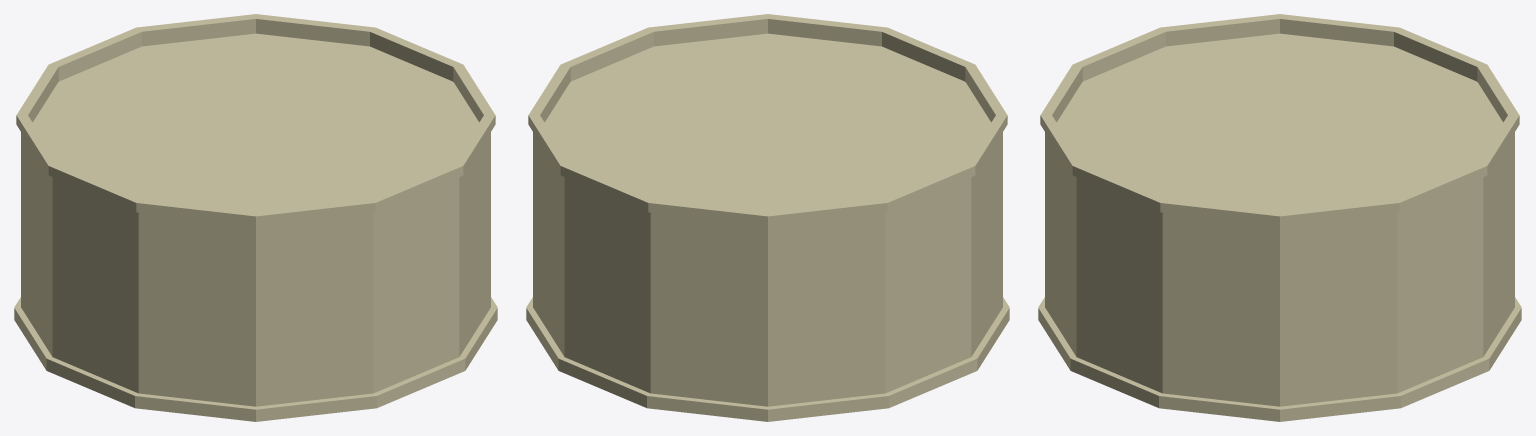
The model's file is Canned_Food_3_mat.fbx.
3 renders of one model, left to right at view 1: azimuth 30°, elevation 25°; view 2: azimuth 150°, elevation 25°; view 3: azimuth 270°, elevation 25°, orthographic.
Parts seen in each view (by area): view 1: Canned_Food_3_mat; view 2: Canned_Food_3_mat; view 3: Canned_Food_3_mat.
Part boxes in pixels (x1,y1,x2,y2): Canned_Food_3_mat: (14,14,497,421); Canned_Food_3_mat: (526,14,1009,421); Canned_Food_3_mat: (1038,14,1521,421).
Bounding box in the file's own units: 9.86 × 4.6 × 9.86.
